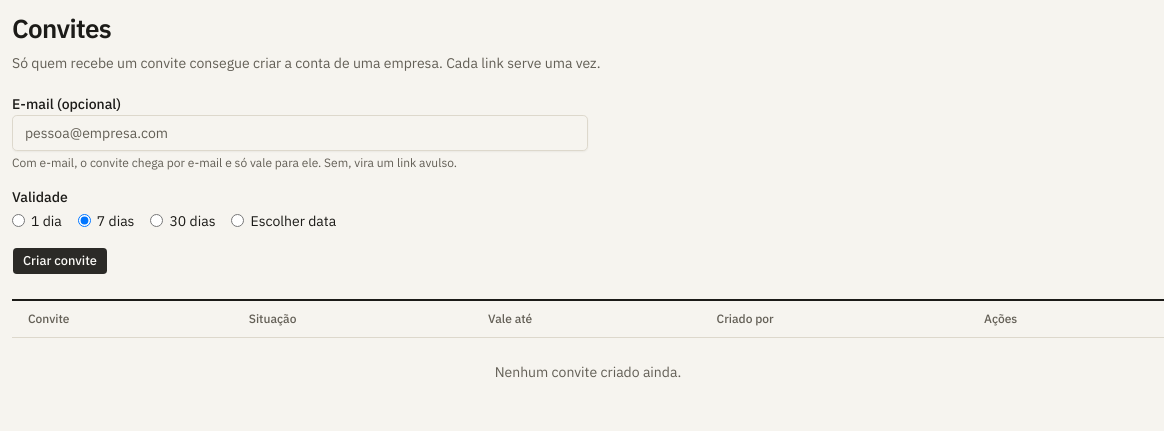
Scenario: B51-03 — Convite por e-mail na tela › CA-B51-17: should avisar que o e-mail já tem conta, sem link
Step 1. Type "bia@exemplo.com" into the field labelled "E-mail (opcional)" → (300, 132), box [12, 114, 588, 150]
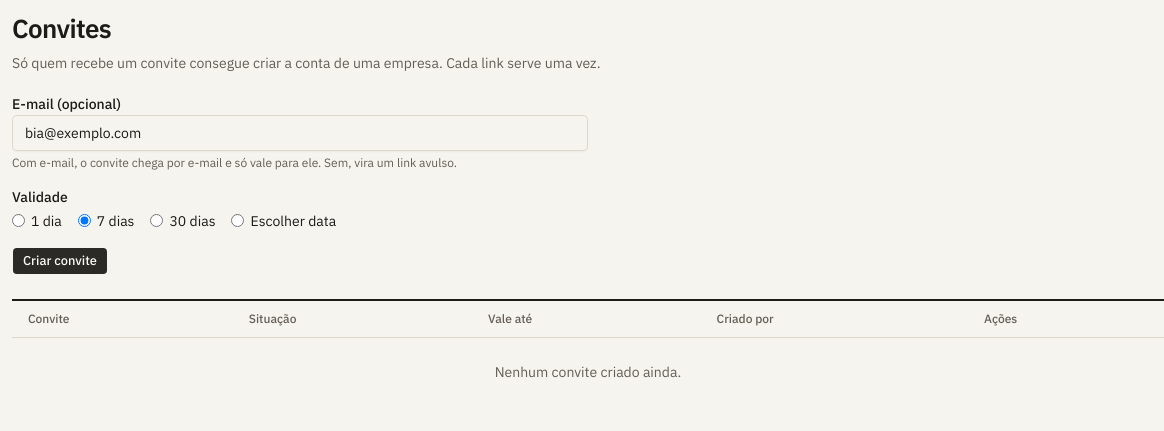
Step 2. Click the button "Criar convite" → (60, 260), box [12, 246, 108, 274]
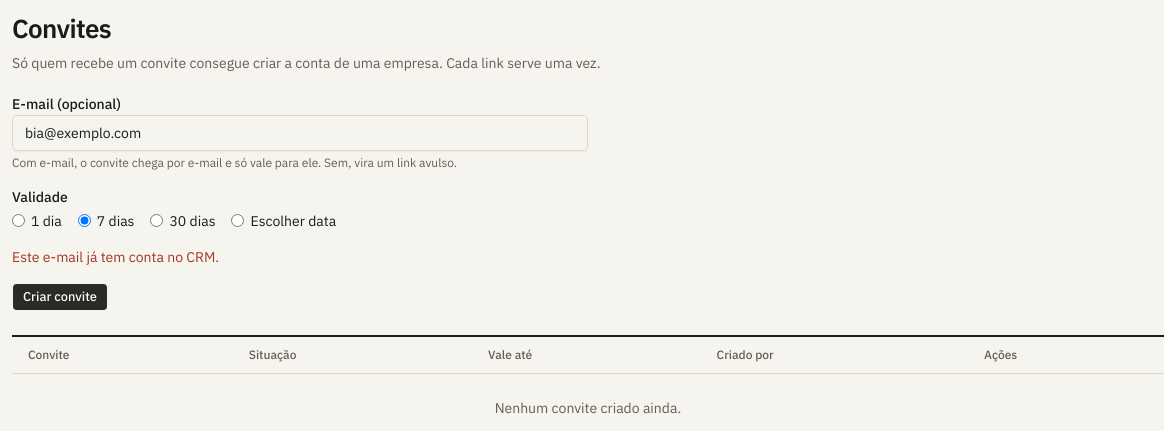
Expected: the message reads "Este e-mail já tem conta no CRM.", [12, 248, 219, 266]
